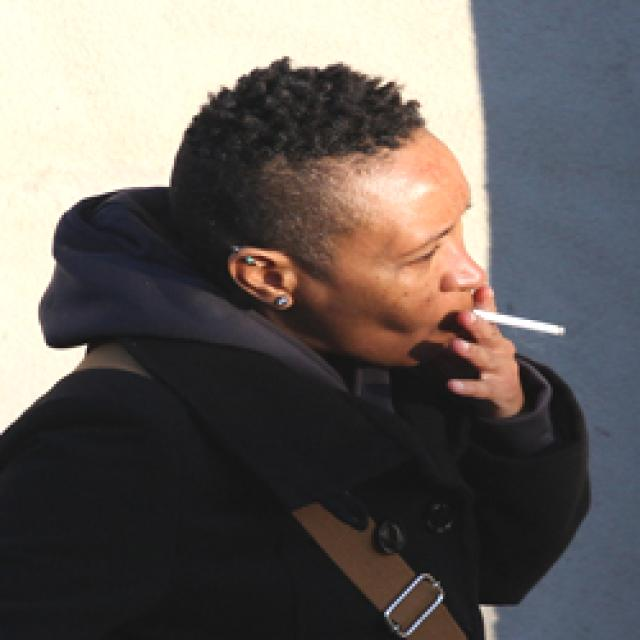Smooking: (468, 298, 577, 342)
